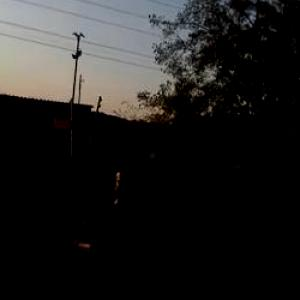follow: (62, 144, 166, 299)
